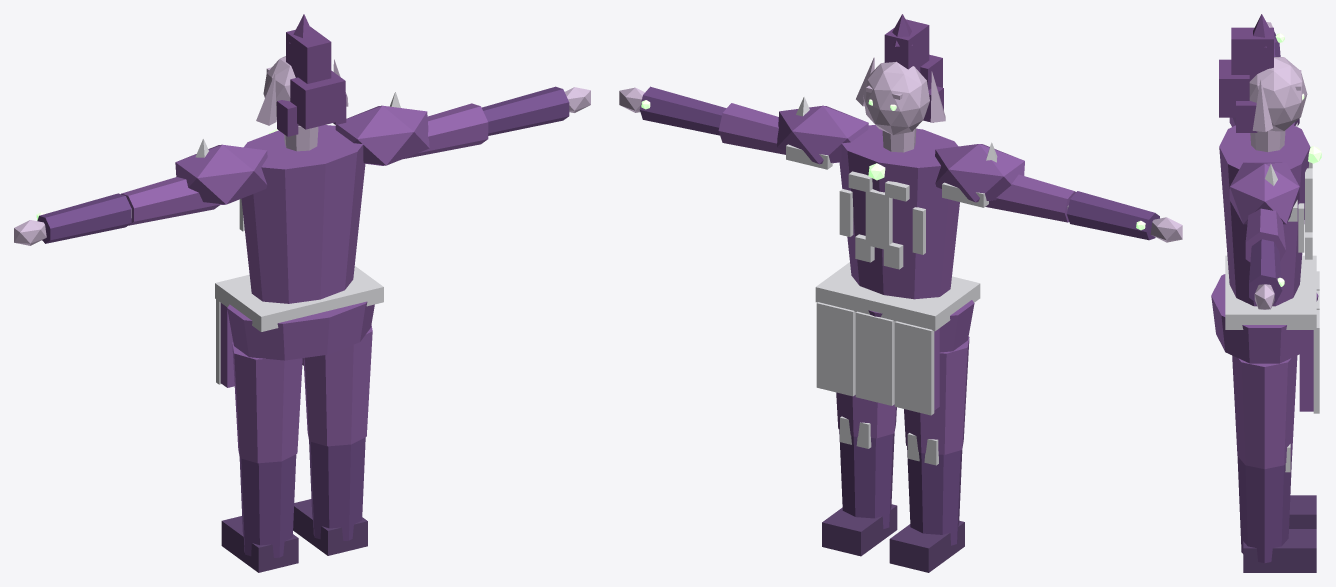
File: purple_plate_elf.glb
3 renders of one model, left to right at view 1: azimuth 30°, elevation 25°; view 2: azimuth 150°, elevation 25°; view 3: azimuth 270°, elevation 25°, orthographic. The views are drawn at different scales.
Visible parts, largest first — view 1: PurplePlateElf; view 2: PurplePlateElf; view 3: PurplePlateElf.
Boxes of the visible parts, left/top/right/bottom form: PurplePlateElf: left=14, top=14, right=590, bottom=572; PurplePlateElf: left=619, top=14, right=1182, bottom=572; PurplePlateElf: left=1211, top=14, right=1321, bottom=572.
Bounding box in the file's own units: 1.91 × 1.7 × 0.3199.
